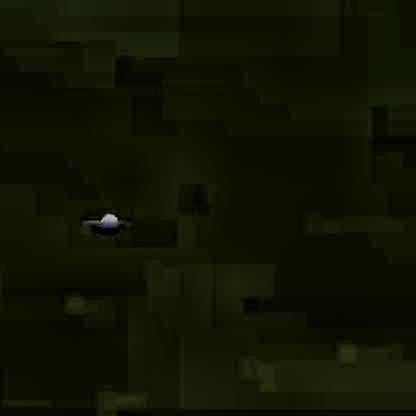golfball: (98, 210, 116, 230)
